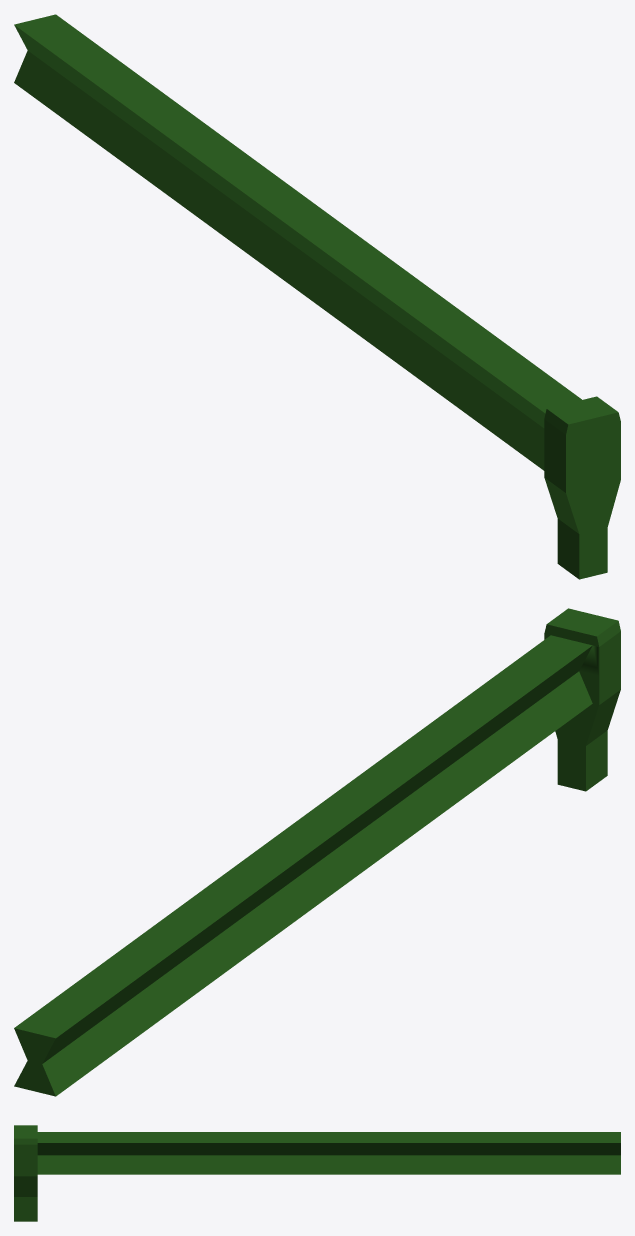
The model's file is Guardrail.fbx.
The picture shows the model from 3 angles, top to bottom: view 1: azimuth 30°, elevation 25°; view 2: azimuth 150°, elevation 25°; view 3: azimuth 270°, elevation 25°; orthographic projection. The views are drawn at different scales.
Visible parts, largest first — view 1: Guardrail; view 2: Guardrail; view 3: Guardrail.
Part boxes in pixels (x1=…): Guardrail: x1=14, y1=14, x2=620, y2=579; Guardrail: x1=14, y1=608, x2=620, y2=1096; Guardrail: x1=14, y1=1125, x2=620, y2=1221.
Size of the model in its own units: 0.197 by 3.47 by 0.5401.
